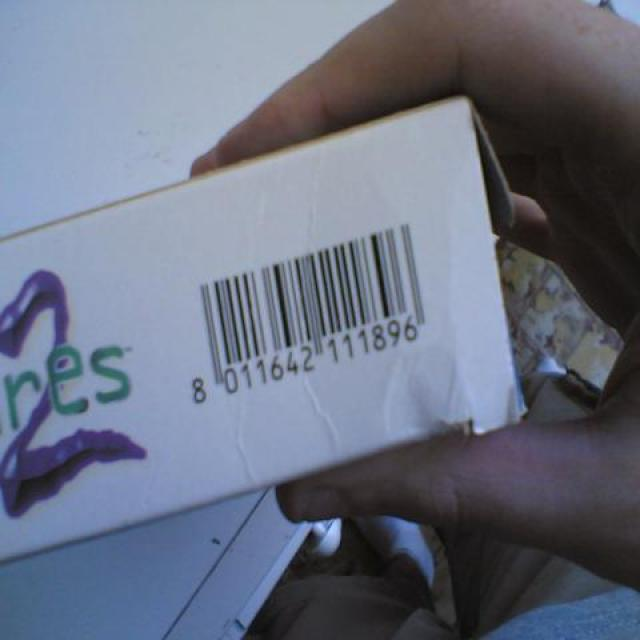Barcode: (171, 203, 454, 426)
